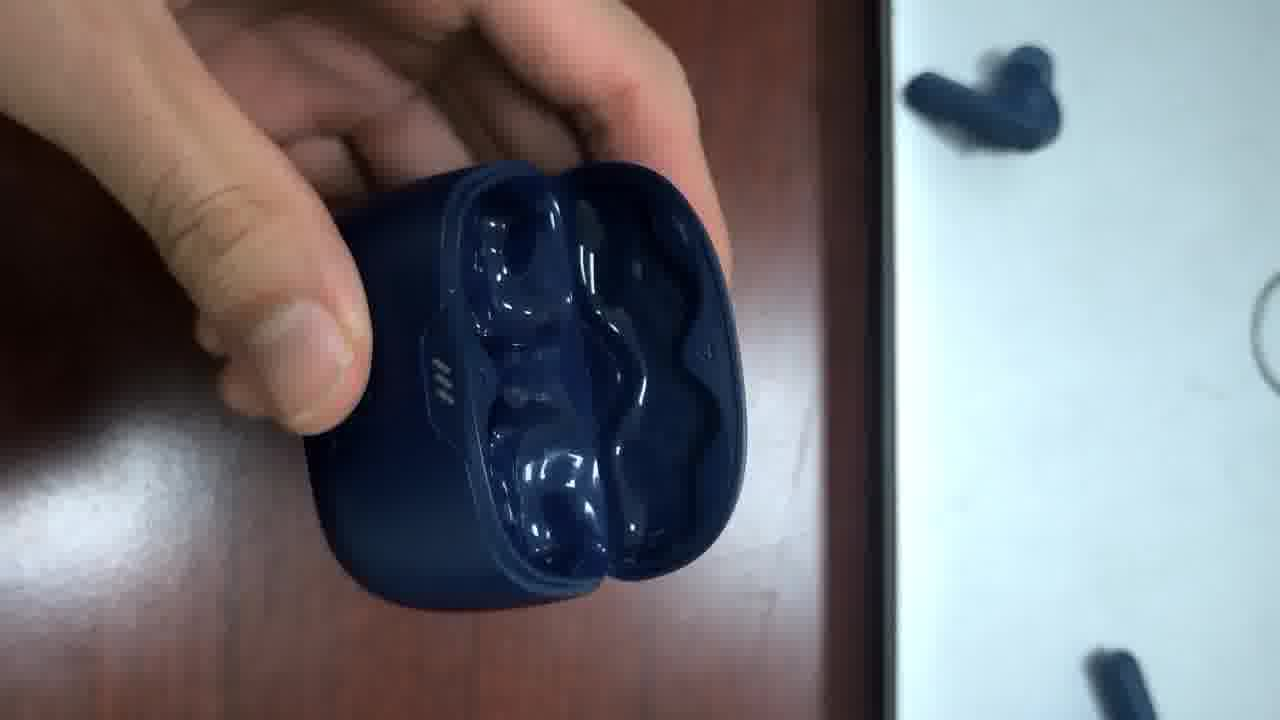Case: (304, 163, 744, 607)
Earbud: (904, 46, 1061, 149)
Empty_Slot: (488, 420, 607, 574), (469, 181, 570, 342)
